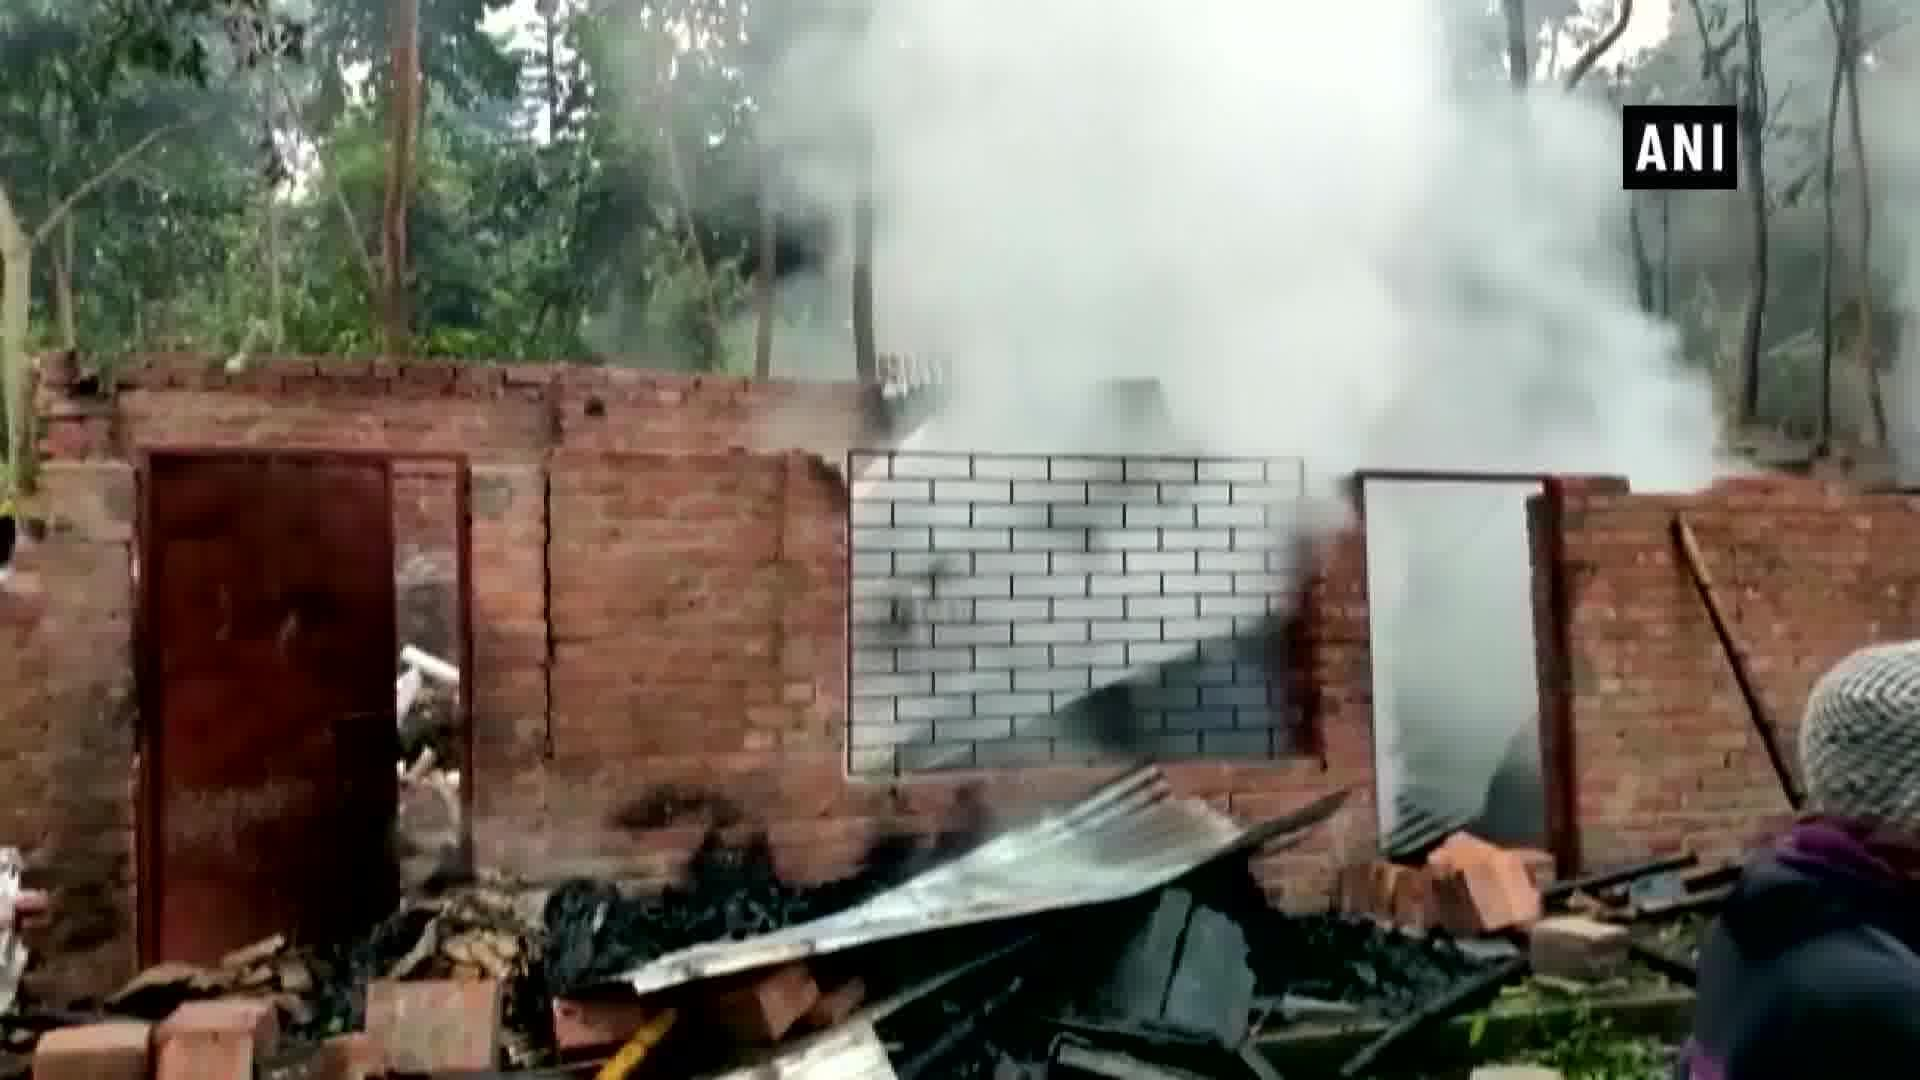smoke: (910, 3, 1553, 484), (1374, 492, 1528, 804)
